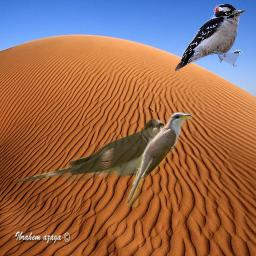Cuckoo: (15, 117, 164, 185), (124, 112, 193, 207)
Woodpecker: (175, 4, 245, 72)
